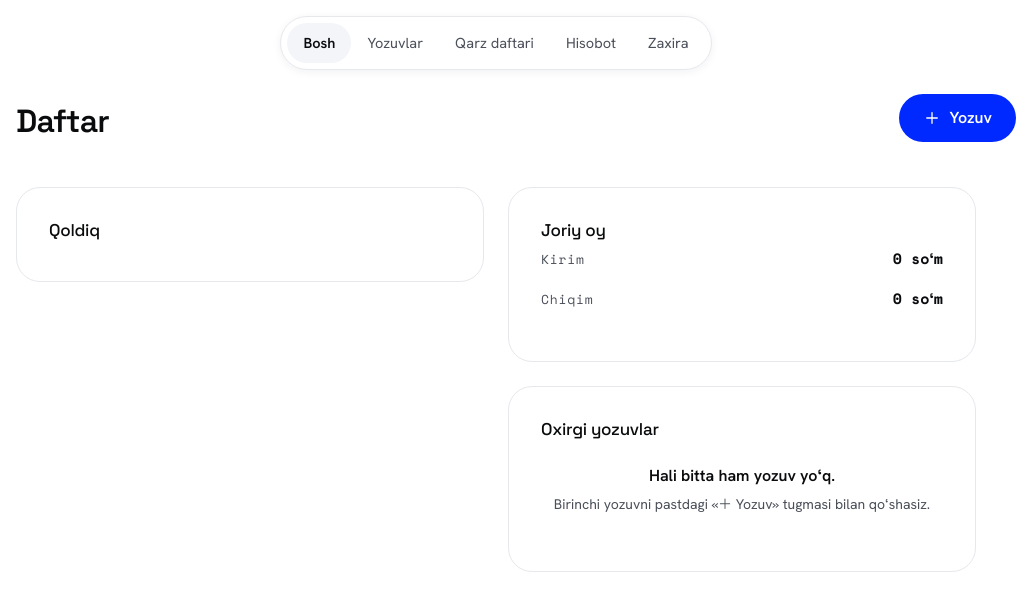
it: sekin birinchi oʻqish yangi kontaktni ekrandan oʻchirib yubormaydi
The image size is (1033, 589).
// Birinchi oʻqish hali tugamagan payt: navigatsiya paneli allaqachon chizilgan.
Click the button "Qarz daftari". click: (494, 43)
box: [439,23,550,63]
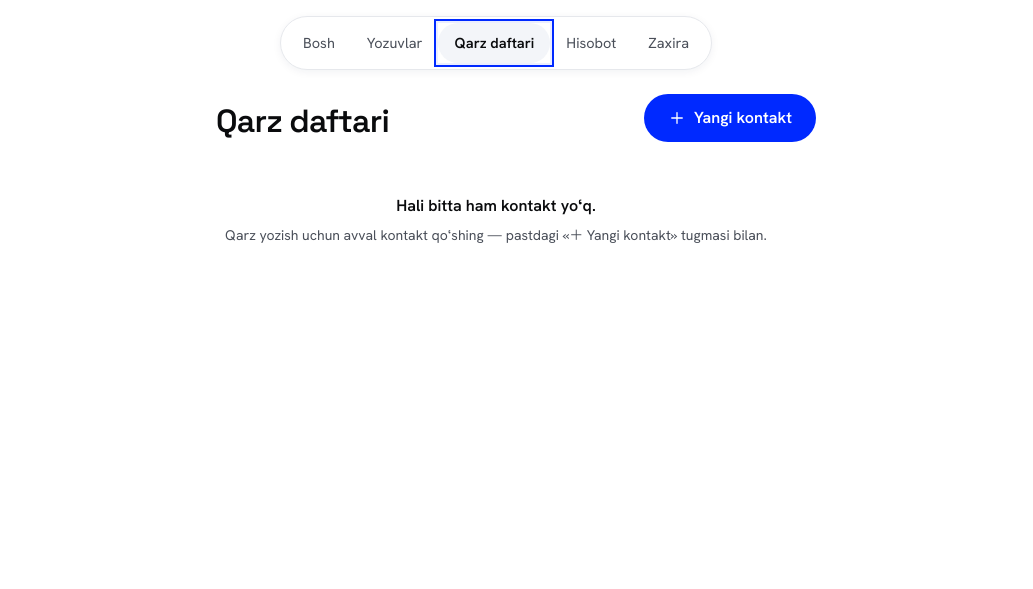
Click the button named "＋ Yangi kontakt". click: (730, 118)
box: [644,94,816,142]
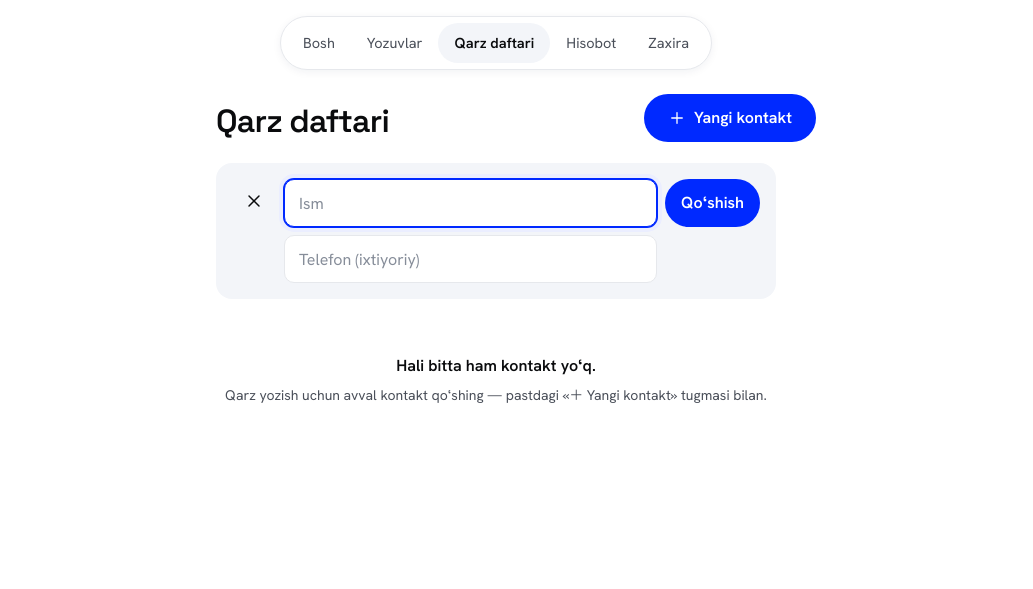
Type "Akmal" into the field labelled "Ism". click: (470, 203)
box: [284,179,657,227]
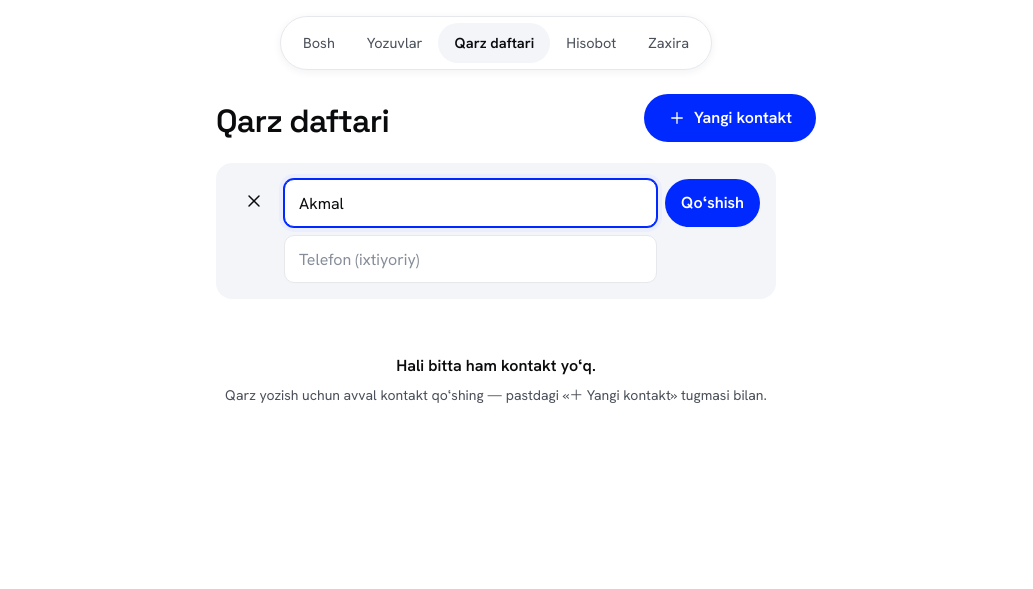
Click the button "Qoʻshish". click: (712, 203)
box: [665,179,760,227]
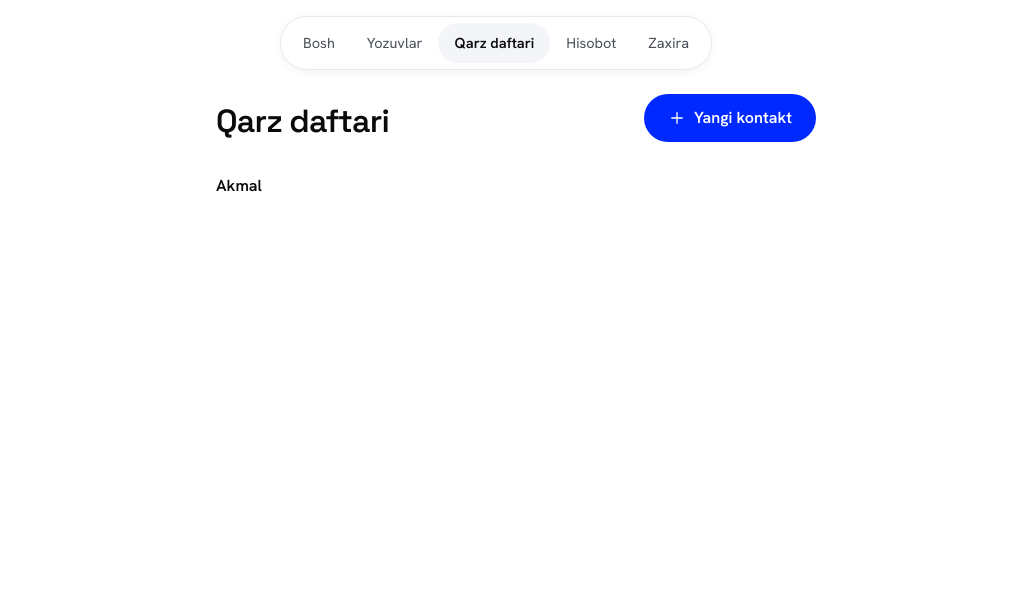
Expected: the button "Akmal" is shown, [176,163,816,227]
